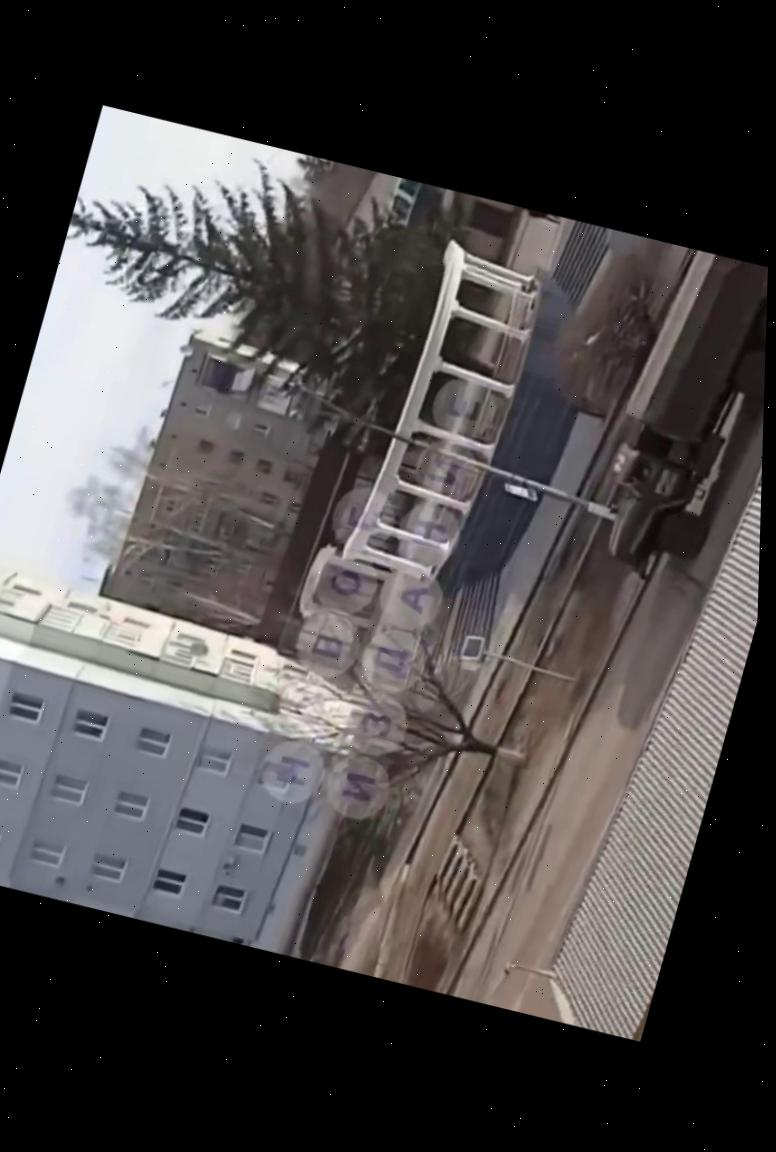person: (514, 205, 561, 228)
truck: (575, 241, 769, 604)
